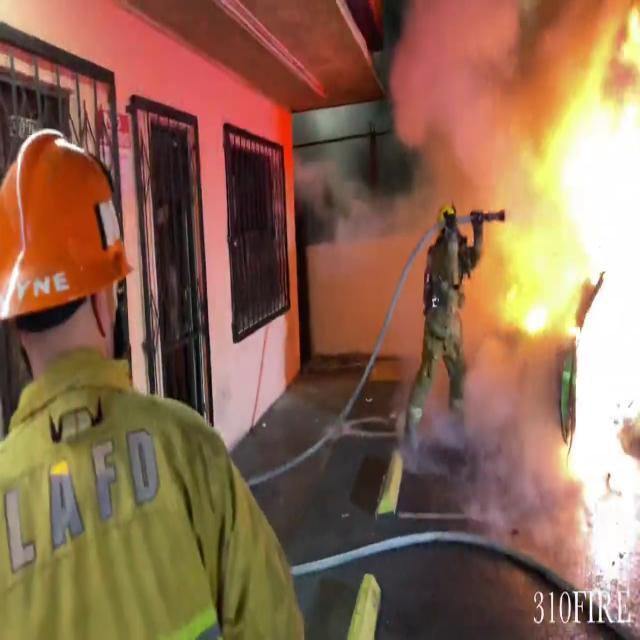Fire: (497, 2, 640, 541)
Smoke: (374, 1, 544, 194)
